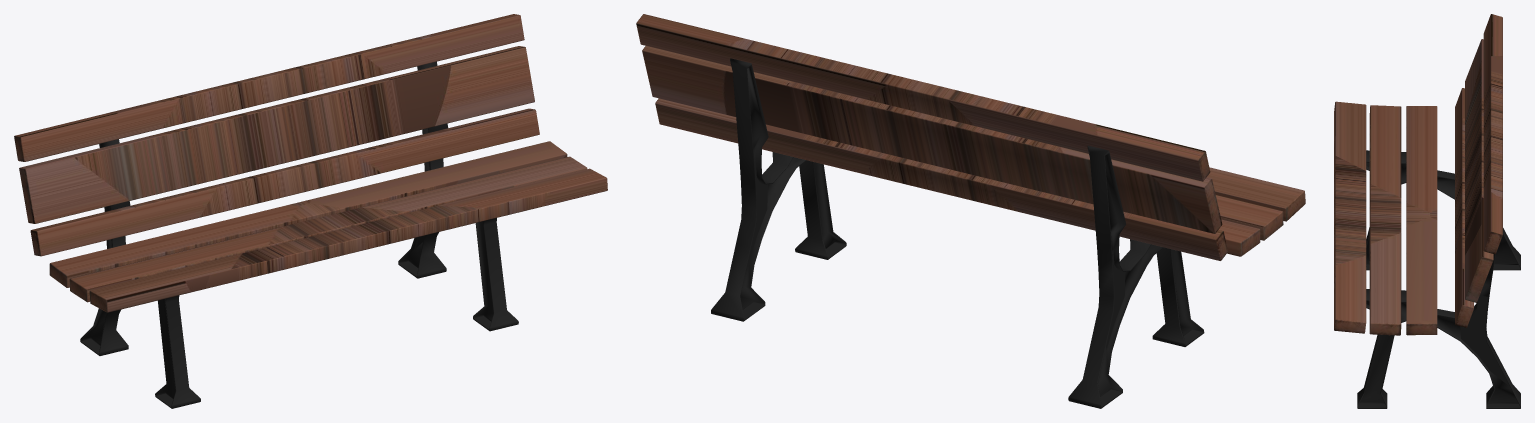
File: bench_wood.glb
3 renders of one model, left to right at view 1: azimuth 30°, elevation 25°; view 2: azimuth 150°, elevation 25°; view 3: azimuth 270°, elevation 25°, orthographic. The views are drawn at different scales.
Visible parts, largest first — view 1: Cube.001_w; view 2: Cube.001_w; view 3: Cube.001_w.
Part boxes in pixels (x1,y1,x2,y2): Cube.001_w: (14, 14, 607, 408); Cube.001_w: (636, 14, 1305, 408); Cube.001_w: (1334, 14, 1520, 408).
Bounding box in the file's own units: 1.91 × 0.86 × 0.6915.
Materials: 3 (2 with a texture image).
